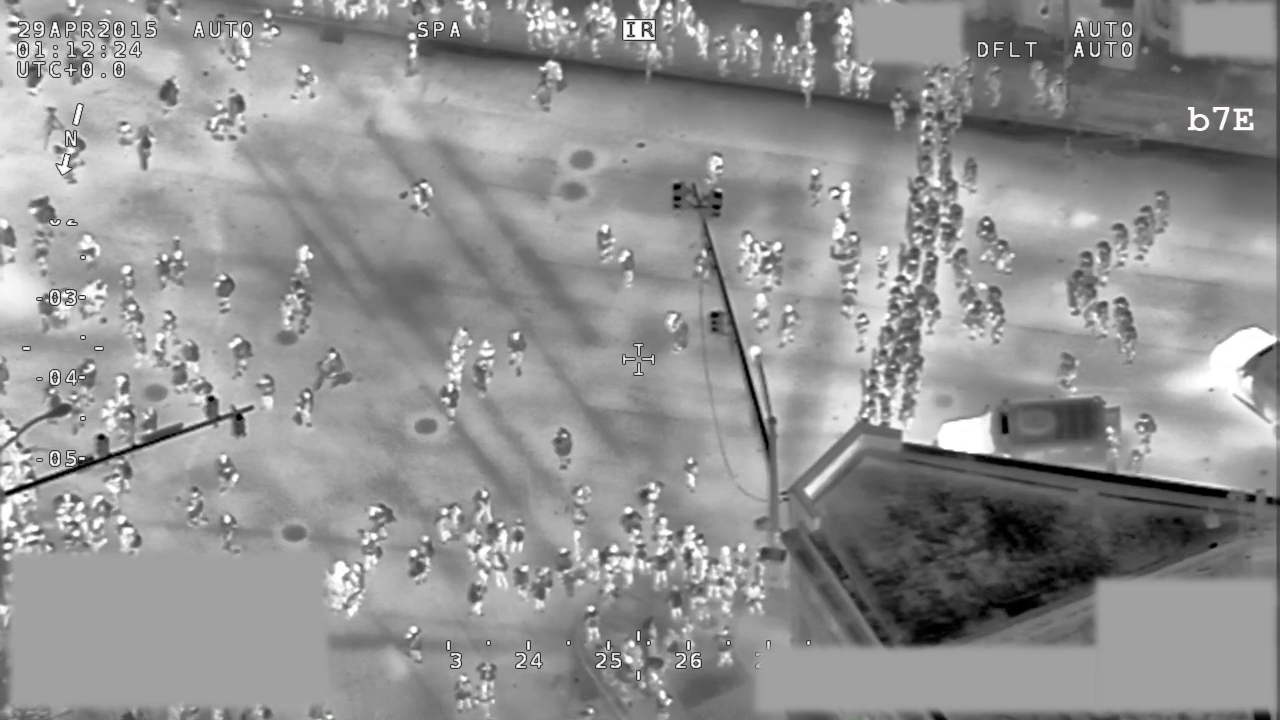vehicle: (934, 389, 1127, 472), (1198, 311, 1280, 439)
